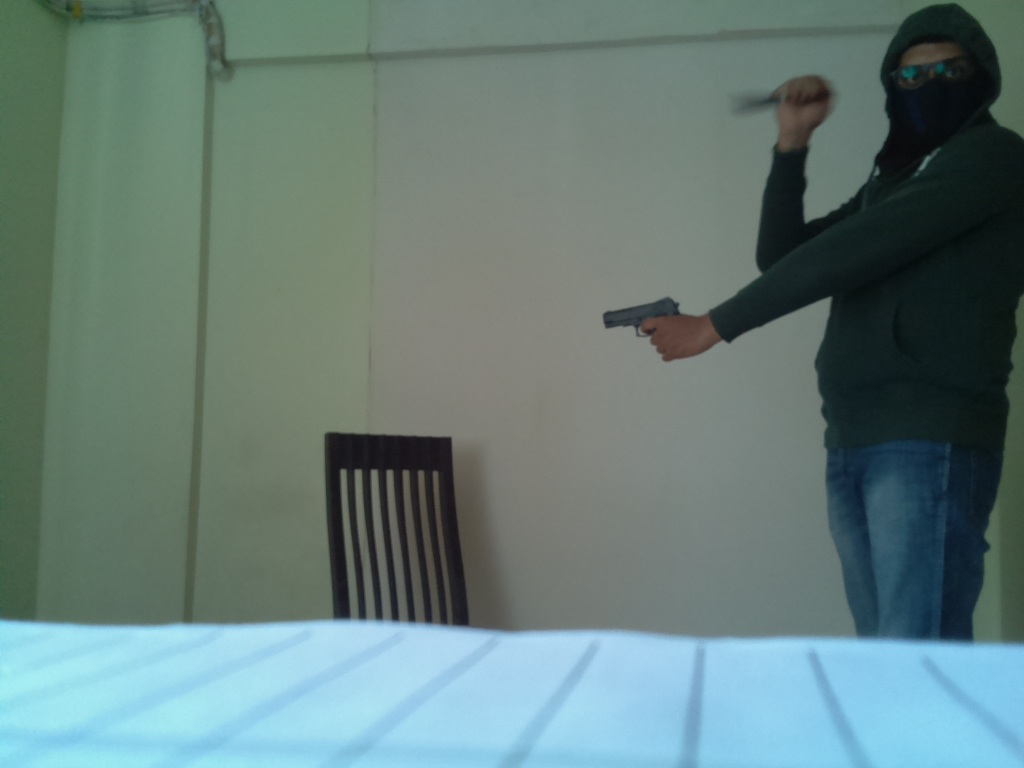gun: (596, 292, 685, 361)
